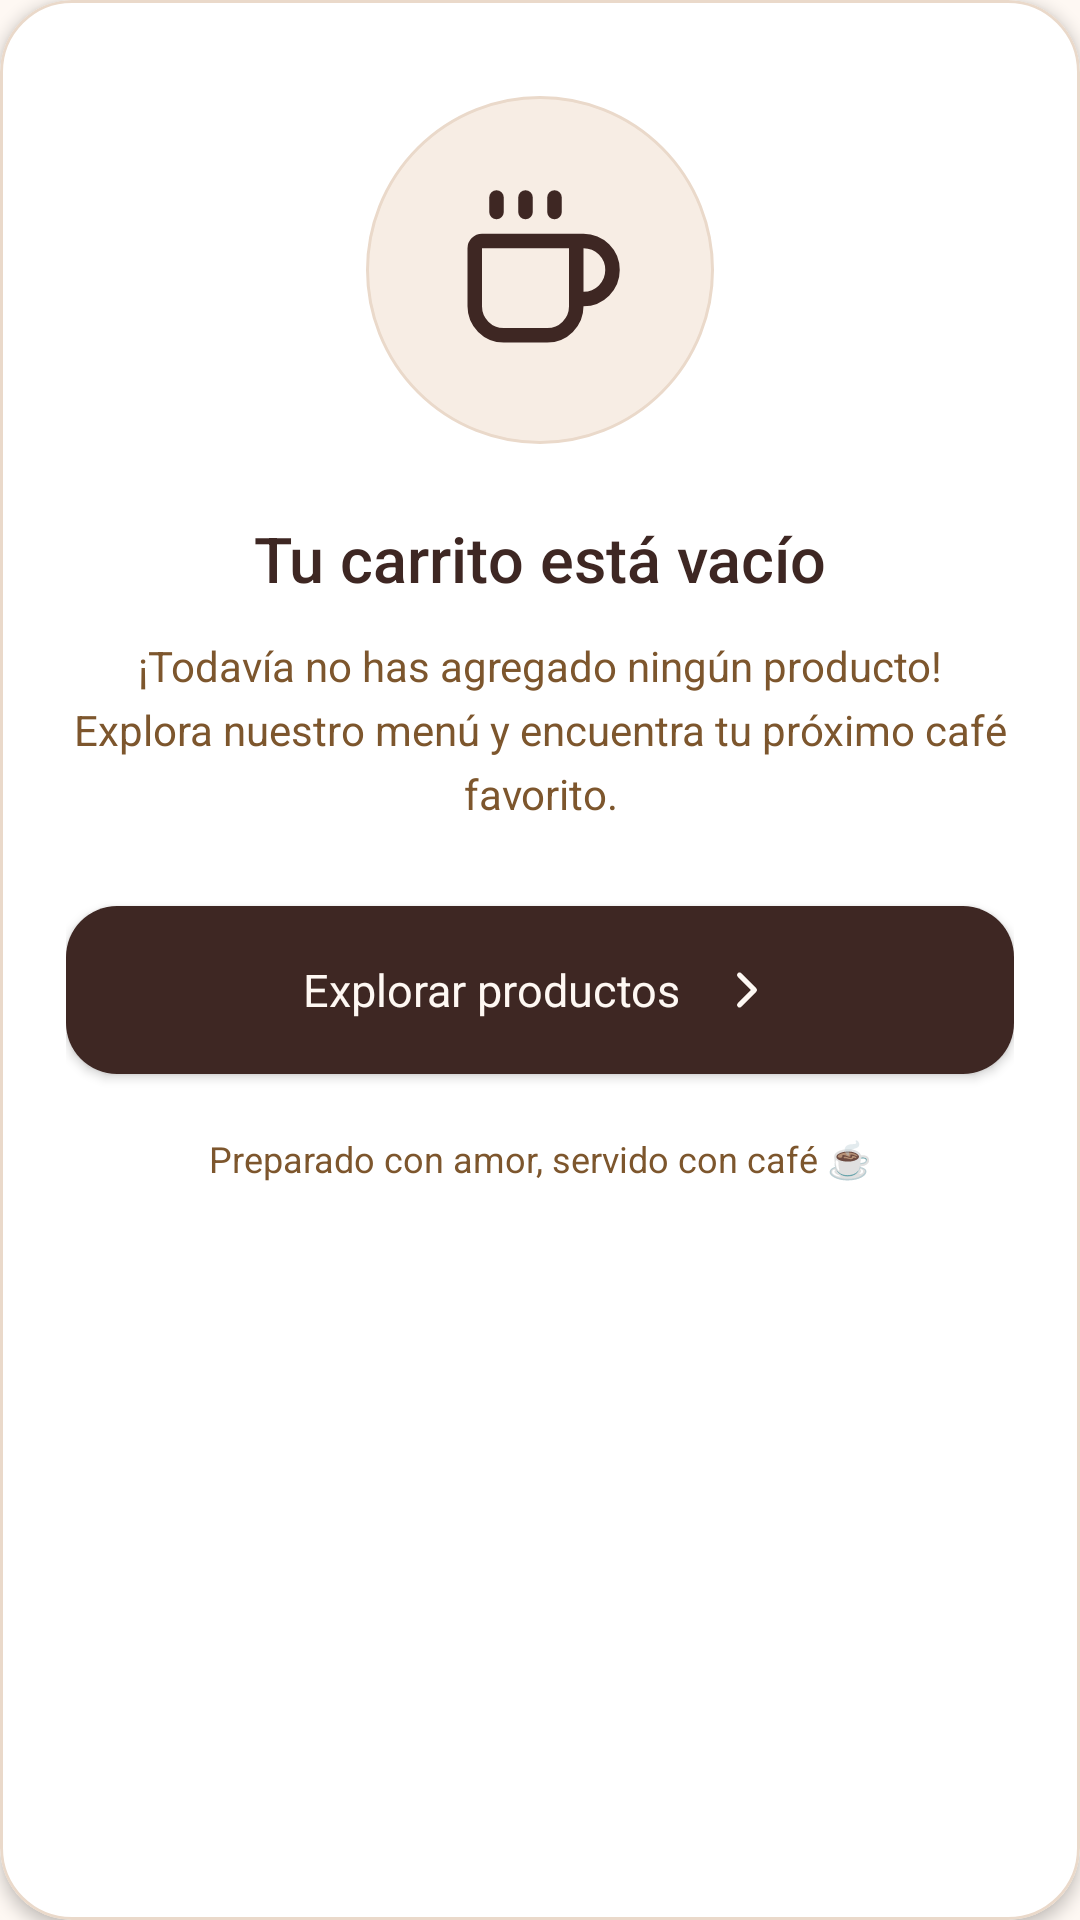

Icon click points for this 1080w x 1920h phone screenshot, format (x,y):
chevron right: (747,990)
coffee: (543,266)
